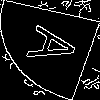A: (25, 25, 92, 70)
